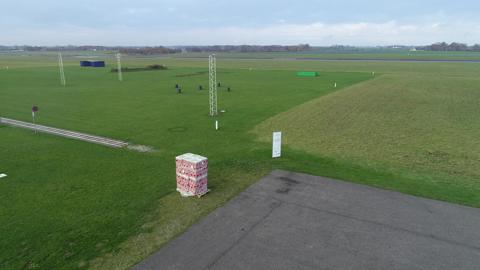RockwoolPallet: (175, 152, 209, 197)
